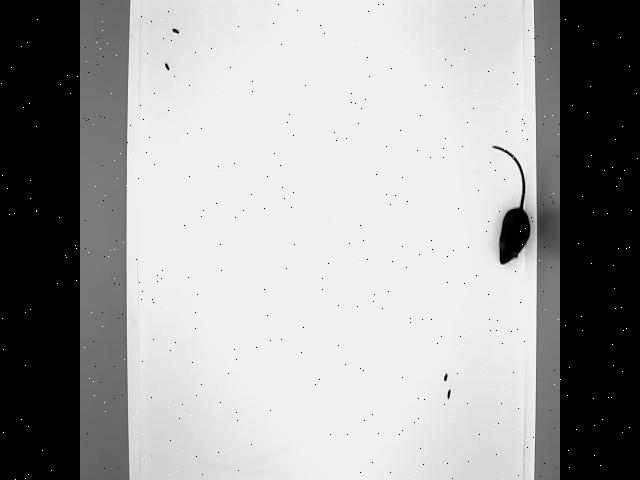Tikus: (490, 142, 534, 264)
